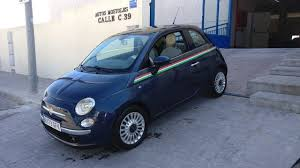car: (46, 25, 226, 149)
